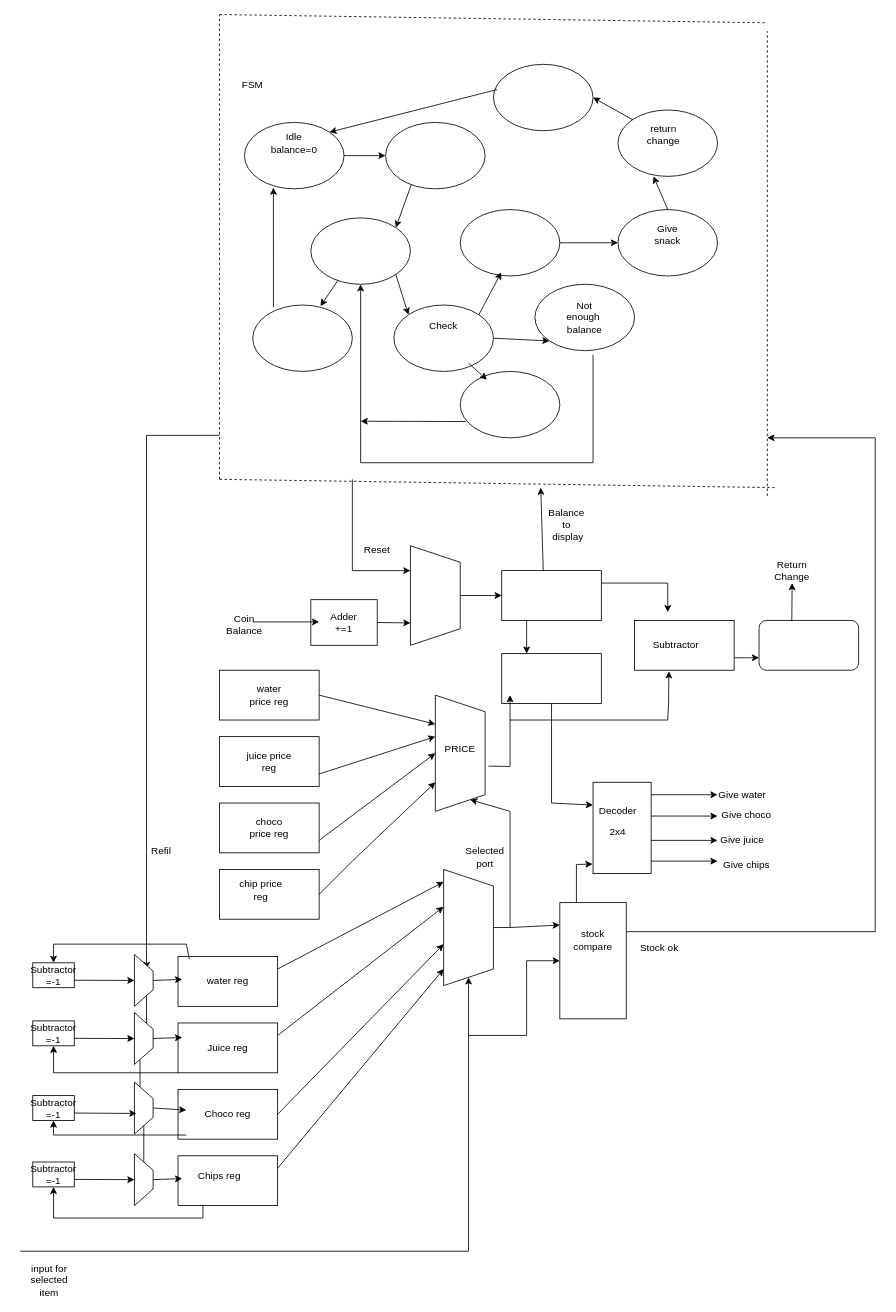
Image size: 896x1312. Some labels were removed from this diagram. The centre of each missing label's shape, as x and y in pixels:
"balance register" goes at (551,595).
"Cancel return balance as change balance = 0" goes at (302,337).
"Change register" goes at (808,645).
"Coin balance +=update" goes at (435,155).
"comparator balance >= price" goes at (551,678).
"Complete" goes at (543,97).
"NO stock" goes at (509,404).
"RES MUX" goes at (435,595).
"Selected product" goes at (468,927).
"Selection" goes at (360,250).
"Sufficientt balance" goes at (509,242).
